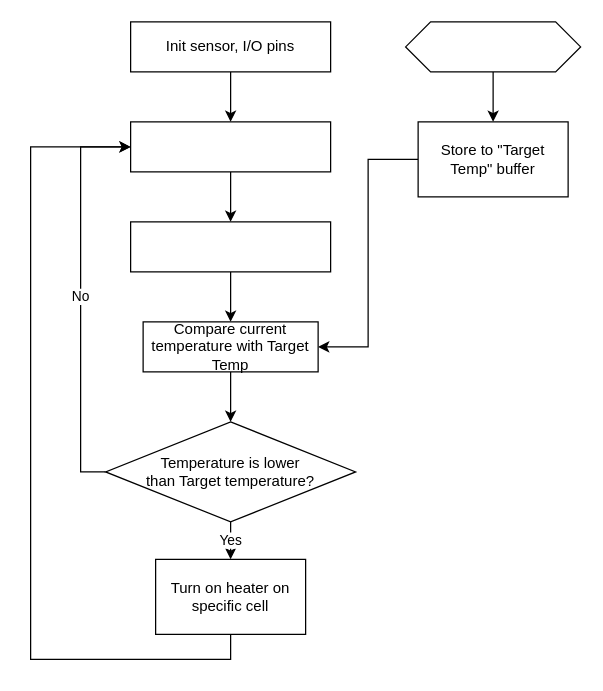
This 603x691 diagram has some shape labels left out. Each missing label, with the box of its shape:
Read sensor: (129, 121, 331, 172)
Send to Serial port: (129, 221, 331, 272)
Serial temperature control from PC?: (404, 21, 581, 72)
